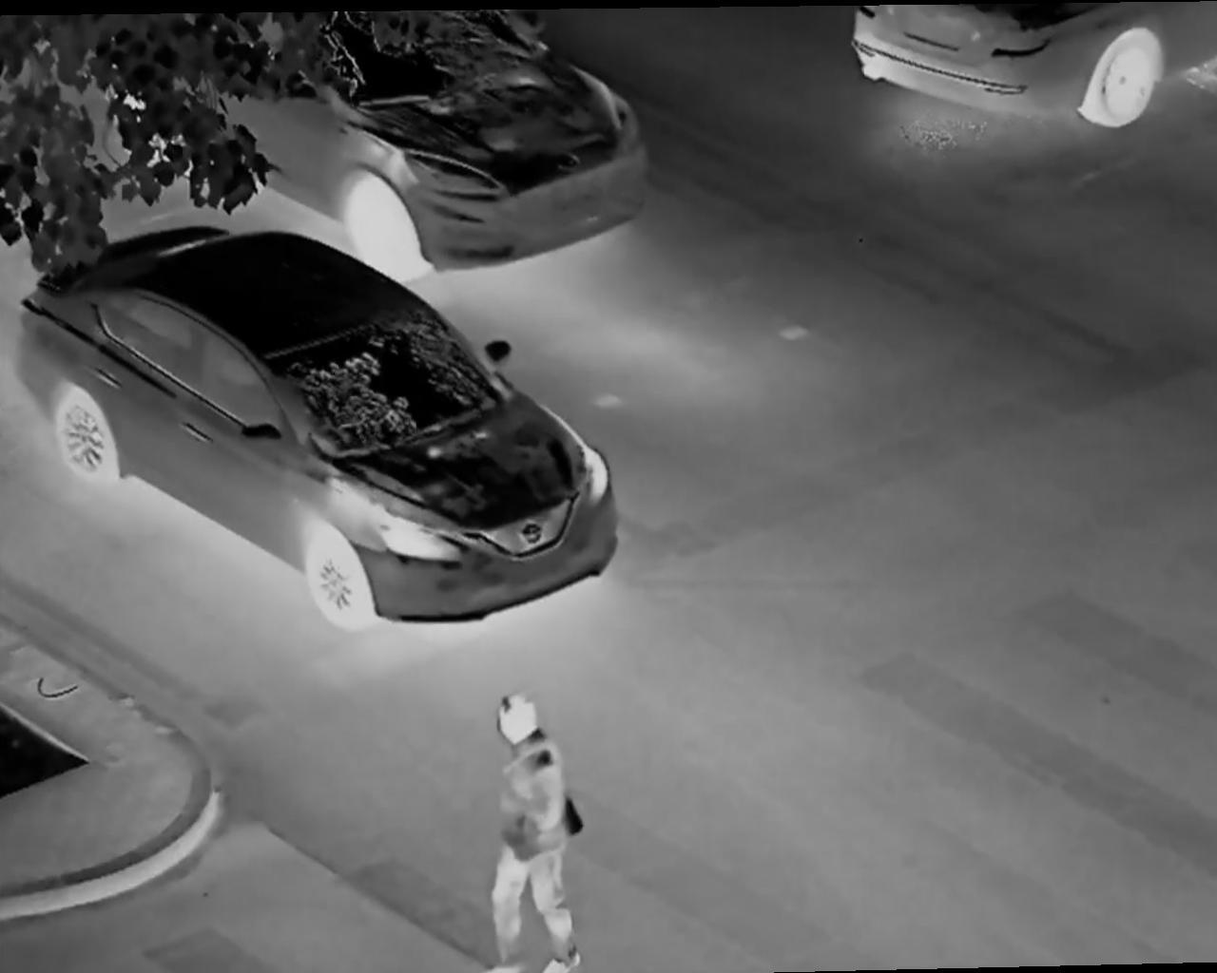person: (488, 684, 596, 973)
